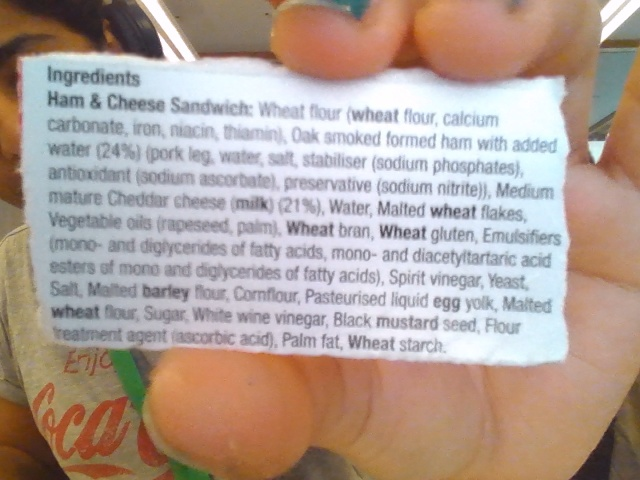wheat: (377, 222, 430, 245)
